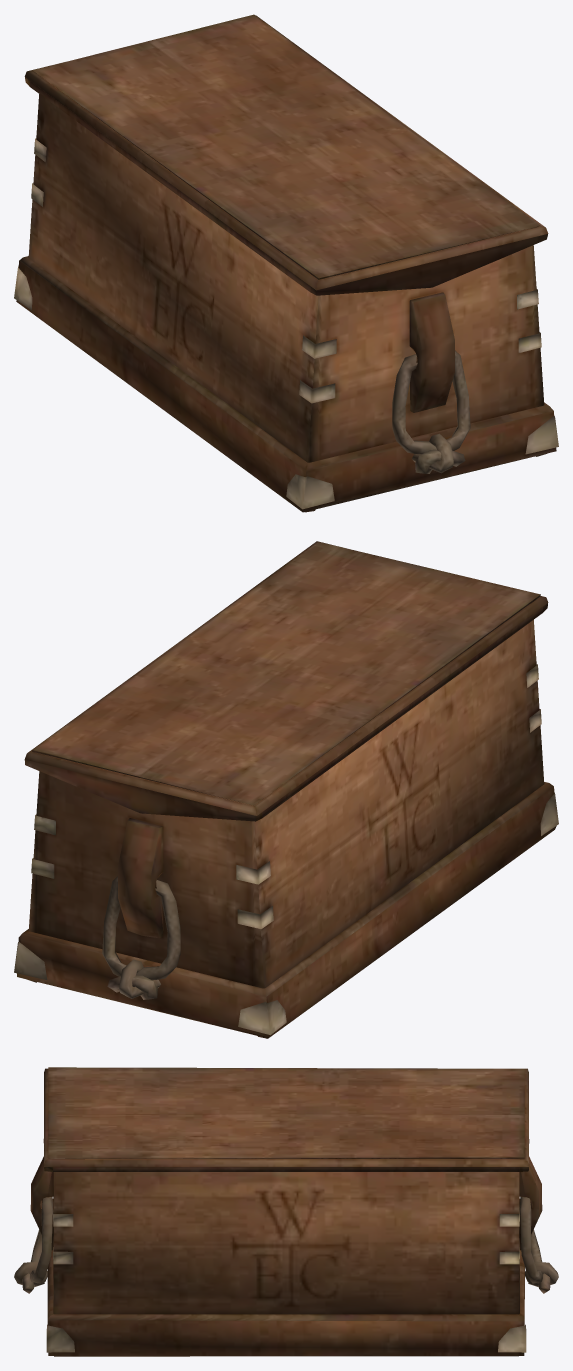
File: wooden_crate_02.glb
The picture shows the model from 3 angles, top to bottom: view 1: azimuth 30°, elevation 25°; view 2: azimuth 150°, elevation 25°; view 3: azimuth 270°, elevation 25°; orthographic projection. The views are drawn at different scales.
Parts seen in each view (by area): view 1: wooden_crate_02_crate; view 2: wooden_crate_02_crate; view 3: wooden_crate_02_crate.
Part boxes in pixels (bbox=[...]): wooden_crate_02_crate: bbox=[14, 14, 558, 512]; wooden_crate_02_crate: bbox=[14, 541, 558, 1038]; wooden_crate_02_crate: bbox=[14, 1067, 558, 1356].
Bounding box in the file's own units: 0.5274 × 0.463 × 1.17.
Materials: 1 (1 with a texture image).
